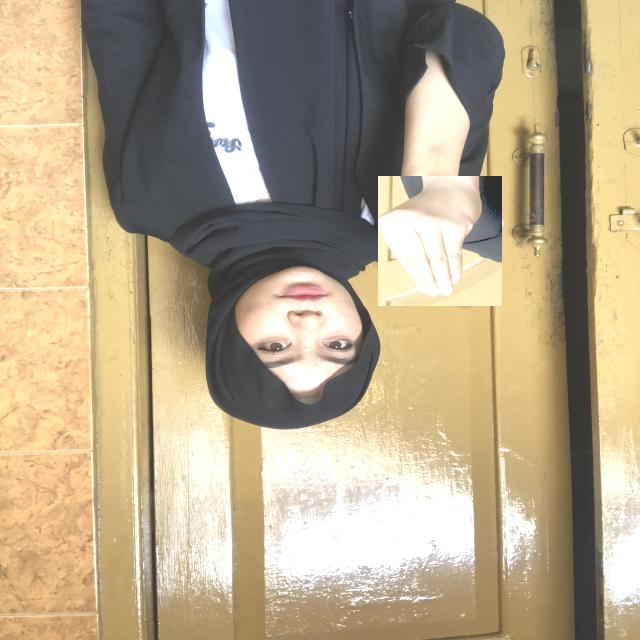kapan: (378, 176, 502, 306)
